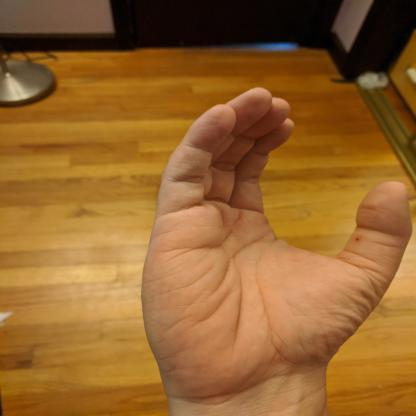C: (133, 83, 416, 411)
